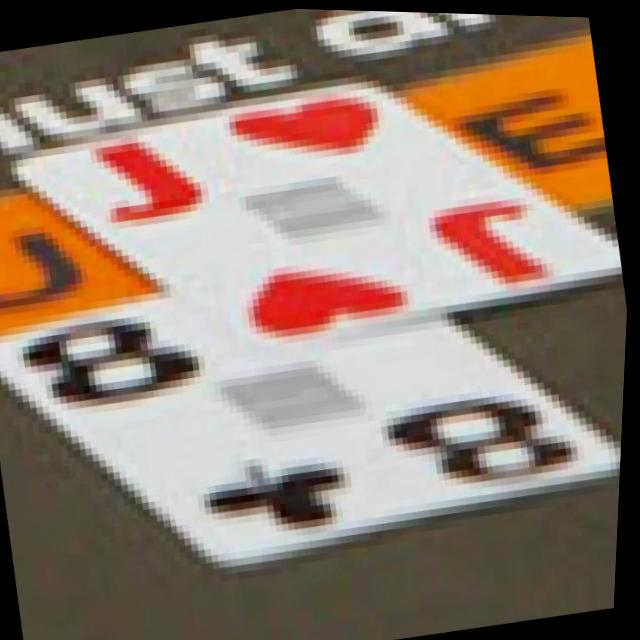Card-8: (0, 292, 625, 568)
Card-J: (14, 75, 620, 365)
